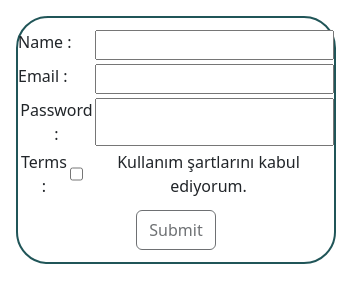
it: Error tests. › Tests password input and gets error as expected .
Check the checkbox with test id "checkbox-input". click: (77, 174)
box: top-left (70, 150), bottom-right (83, 198)
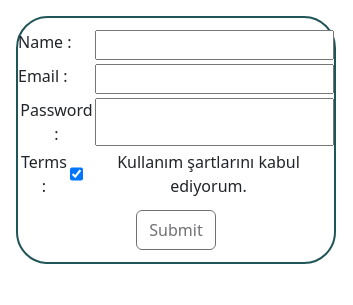
Click the checkbox with test id "checkbox-input". click: (77, 174)
box: top-left (70, 150), bottom-right (83, 198)
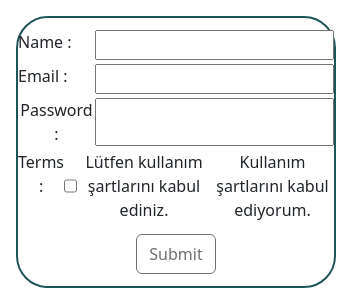
expect the text "Lütfen kullanım şartlarını kabul ediniz." is shown: met, box top-left (18, 150), bottom-right (334, 222)
